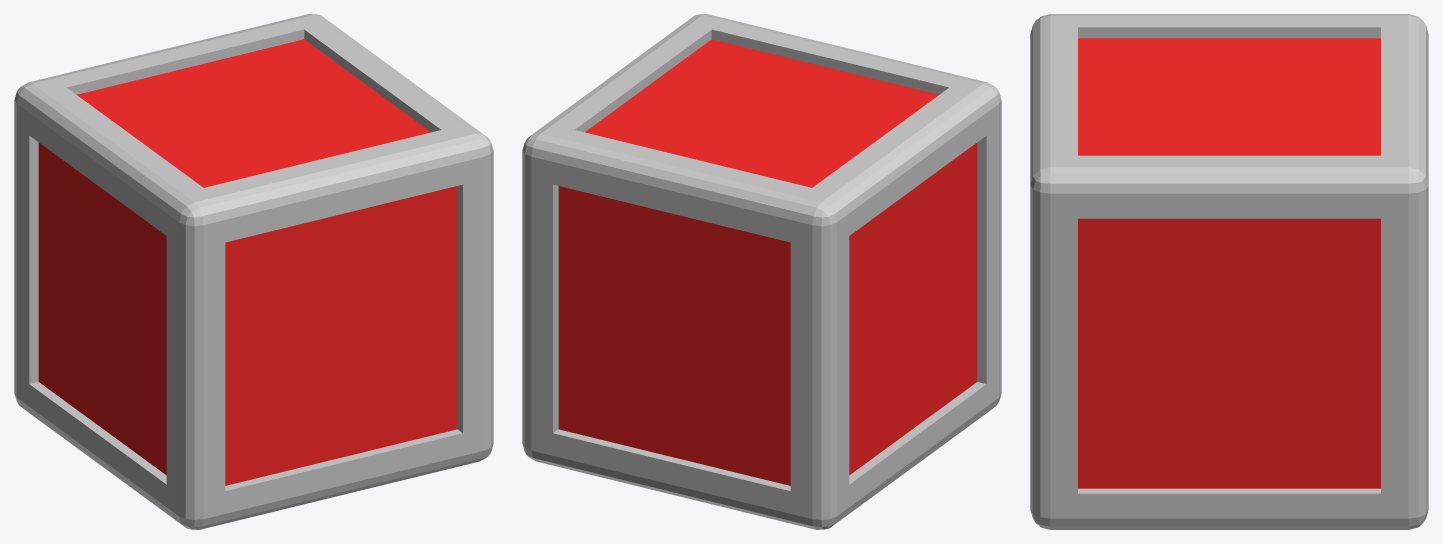
The model's file is PickupRifle.fbx.
3 renders of one model, left to right at view 1: azimuth 30°, elevation 25°; view 2: azimuth 150°, elevation 25°; view 3: azimuth 270°, elevation 25°, orthographic. The views are drawn at different scales.
Visible parts, largest first — view 1: Cube; view 2: Cube; view 3: Cube.
Part boxes in pixels (x1,y1,x2,y2): Cube: (14,14,493,529); Cube: (522,14,1001,529); Cube: (1030,14,1428,529).
Size of the model in its own units: 1.5 by 1.5 by 1.5.
